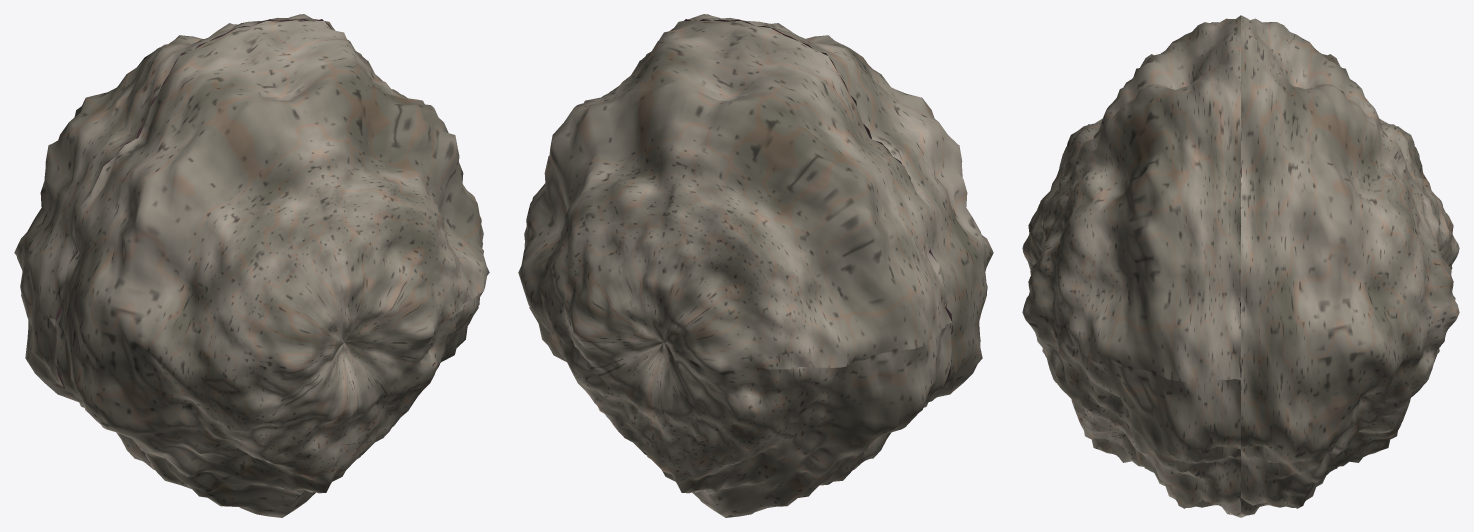
Rendered from deep-amethyst-study-v1.glb.
3 renders of one model, left to right at view 1: azimuth 30°, elevation 25°; view 2: azimuth 150°, elevation 25°; view 3: azimuth 270°, elevation 25°, orthographic.
Visible parts, largest first — view 1: Closed_front, Closed_back; view 2: Closed_back, Closed_front; view 3: Closed_front, Closed_back.
Part boxes in pixels (bbox=[...]): Closed_front: bbox=[55, 20, 489, 517]; Closed_back: bbox=[14, 14, 383, 469]; Closed_back: bbox=[518, 20, 952, 517]; Closed_front: bbox=[613, 14, 993, 469]; Closed_front: bbox=[1022, 15, 1240, 517]; Closed_back: bbox=[1241, 15, 1459, 517].
Bounding box in the file's own units: 3.02 × 3.48 × 2.86.
Materials: 8 (3 with a texture image).
